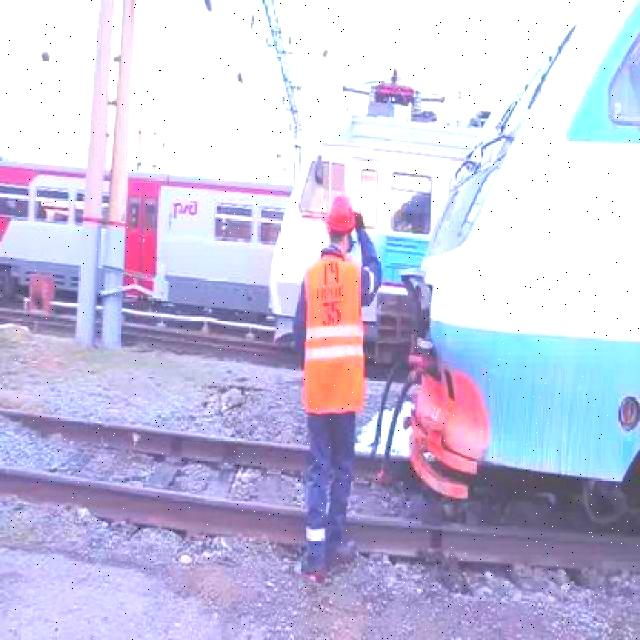Helmet: (324, 194, 358, 232)
Mask: (292, 212, 378, 576), (302, 254, 367, 418)
